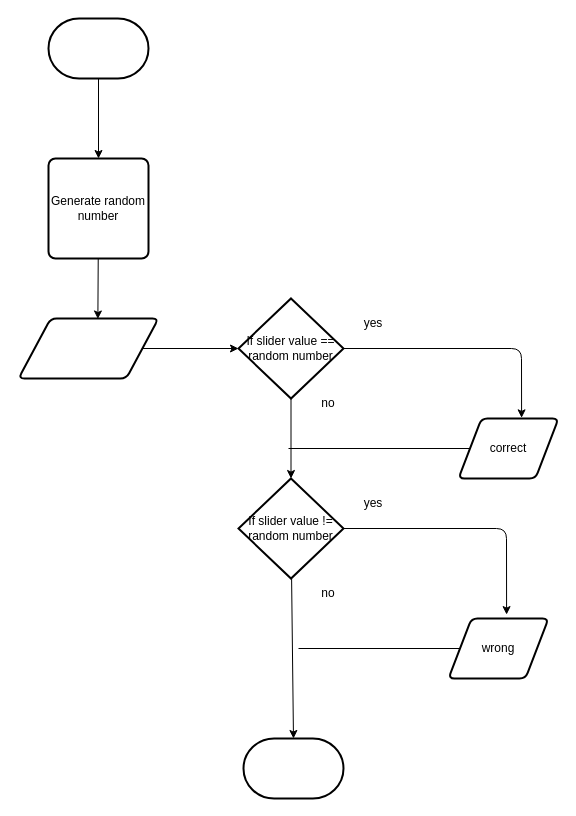
Some shapes in this 576 by 816 pixel diagram are drawn without their labels. Here are the shapes that lost their labels. From the top down, the box of each, then its label:
(47, 17, 149, 79): Start
(17, 317, 159, 379): Get slider value
(242, 737, 344, 799): Stop
